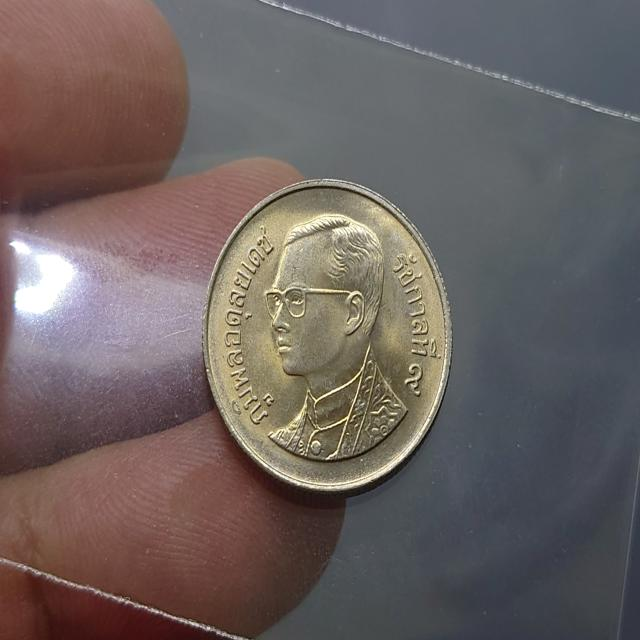1 Bath: (191, 166, 470, 508)
